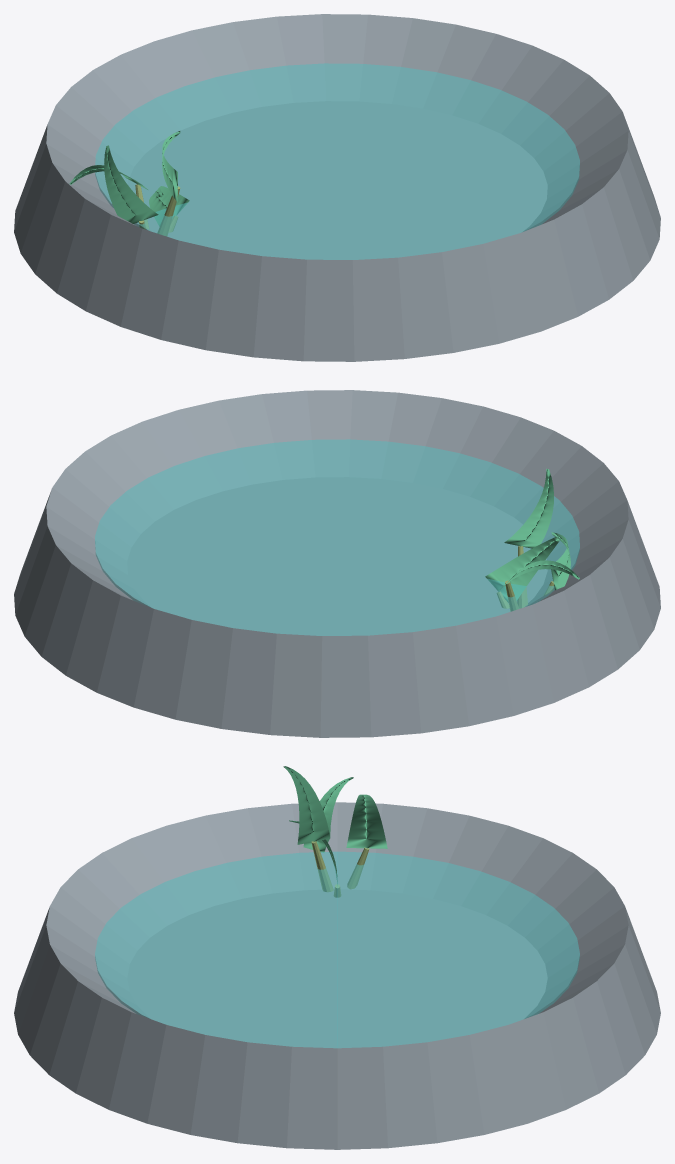
File: freshwater_spring_pool_tropical_island_and_palm_trees_6860.glb
The picture shows the model from 3 angles, top to bottom: view 1: azimuth 30°, elevation 25°; view 2: azimuth 150°, elevation 25°; view 3: azimuth 270°, elevation 25°; orthographic projection.
Parts seen in each view (by area): view 1: freshwater-spring; view 2: freshwater-spring; view 3: freshwater-spring.
Part boxes in pixels (left/top/right/bottom): freshwater-spring: left=14, top=14, right=660, bottom=361; freshwater-spring: left=14, top=390, right=660, bottom=737; freshwater-spring: left=14, top=766, right=660, bottom=1149.
Size of the model in its own units: 3 by 0.825 by 3.
